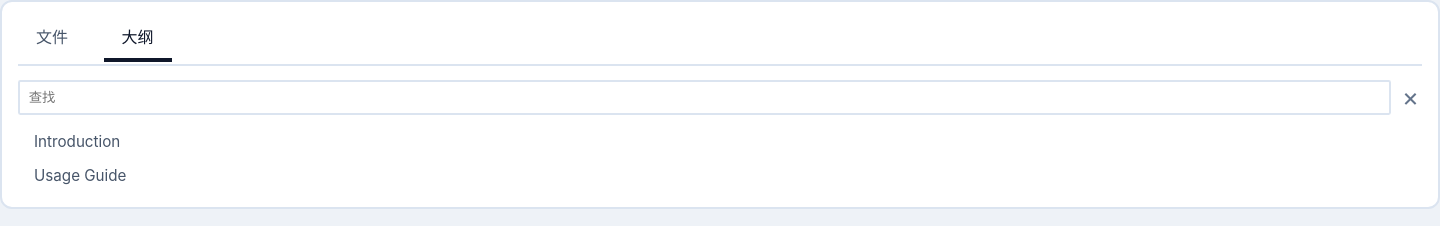
Test: WorkspaceSidebar › filters outline entries with the search field and supports clearing the query
Type "usage" into the search field named "查找大纲" at x=704, y=97, box [18, 80, 1391, 115]
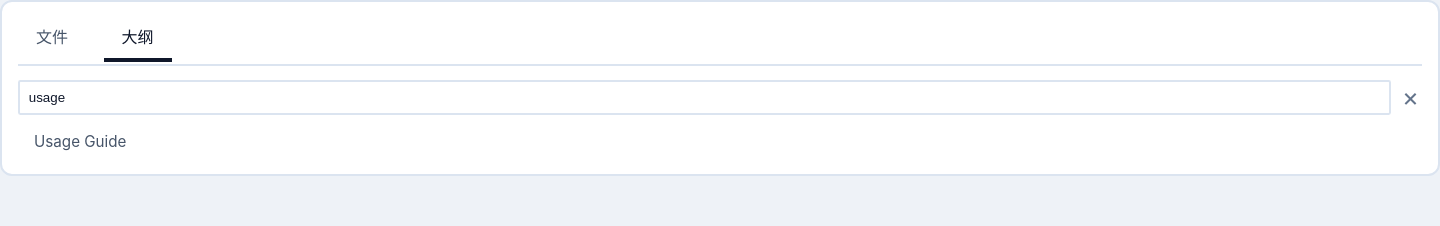
Expected: the button "Usage Guide" is shown, [18, 127, 1418, 158]
Expected: the button "Introduction" is gone
Click the button named "清空搜索" at x=1410, y=97, box [1399, 83, 1422, 112]
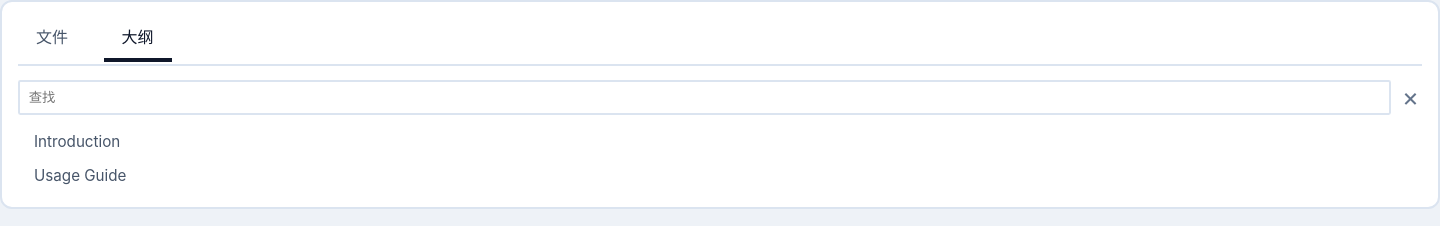
Expected: the button "Usage Guide" is shown, [18, 160, 1418, 191]
Expected: the button "Introduction" is shown, [18, 127, 1418, 158]
